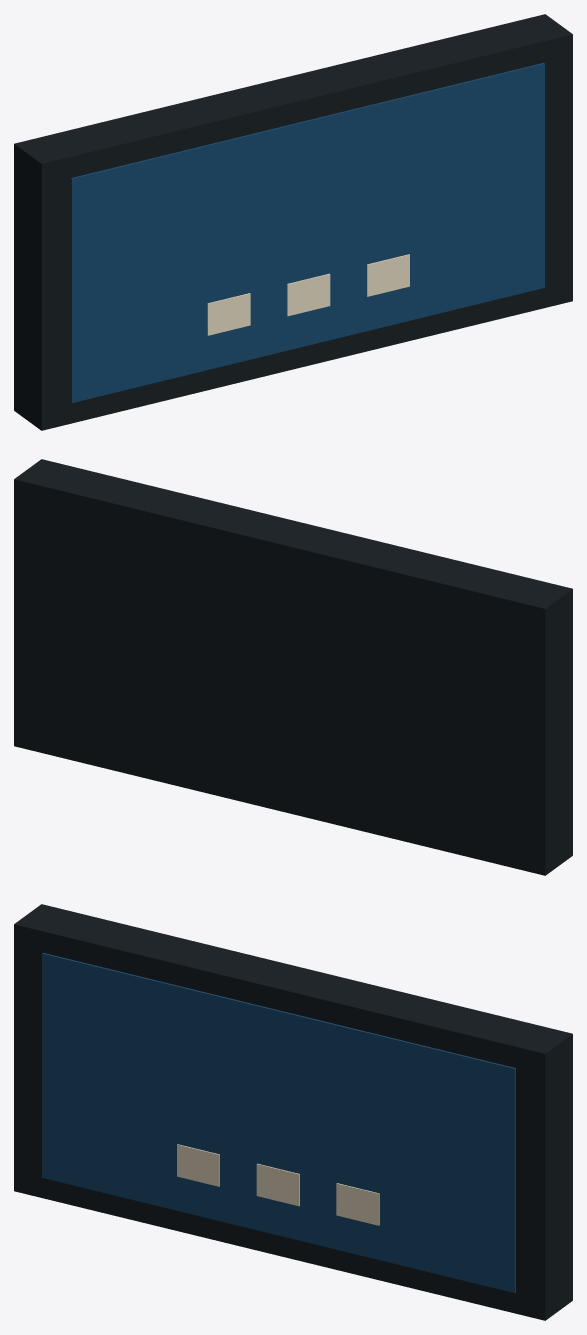
Rendered from blaze_phone.glb.
3 renders of one model, top to bottom at view 1: azimuth 30°, elevation 25°; view 2: azimuth 150°, elevation 25°; view 3: azimuth 330°, elevation 25°, orthographic.
Parts seen in each view (by area): view 1: world; view 2: world; view 3: world.
Part boxes in pixels (x1,y1,x2,y2): world: [14, 14, 572, 430]; world: [14, 459, 572, 875]; world: [14, 904, 572, 1320].
Bounding box in the file's own units: 0.1 × 0.048 × 0.00954.
Materials: 1 (1 with a texture image).
